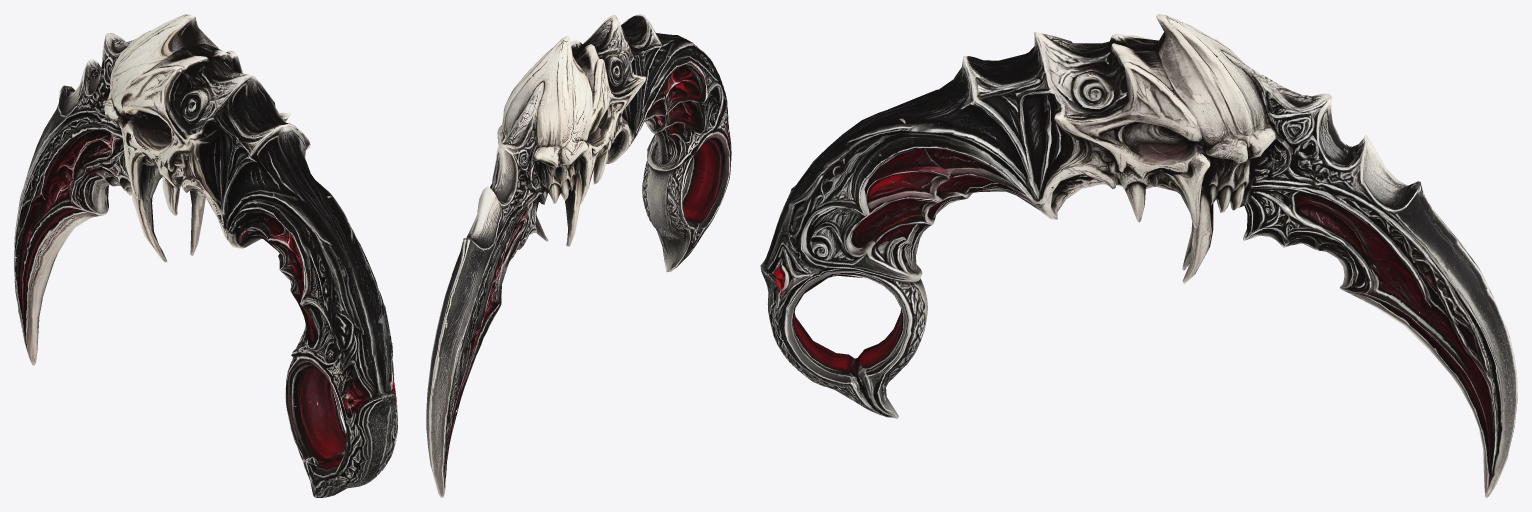
Rendered from b_karambit_karaveba.glb.
3 views of the same model, side by side, from view 1: azimuth 30°, elevation 25°; view 2: azimuth 150°, elevation 25°; view 3: azimuth 270°, elevation 25° (orthographic). The views are drawn at different scales.
Visible parts, largest first — view 1: govde; view 2: govde; view 3: govde.
Part boxes in pixels (left/top/right/bottom): govde: left=14, top=14, right=397, bottom=497; govde: left=426, top=14, right=731, bottom=497; govde: left=760, top=14, right=1517, bottom=497.
Bounding box in the file's own units: 0.0394 × 0.1616 × 0.2295.
Materials: 1 (1 with a texture image).
